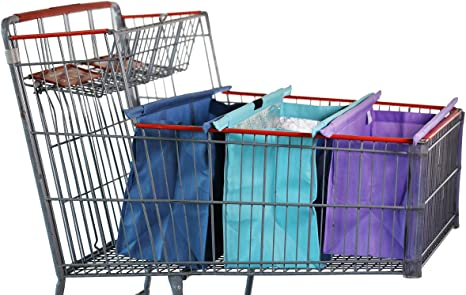with_basket: (3, 5, 462, 286)
